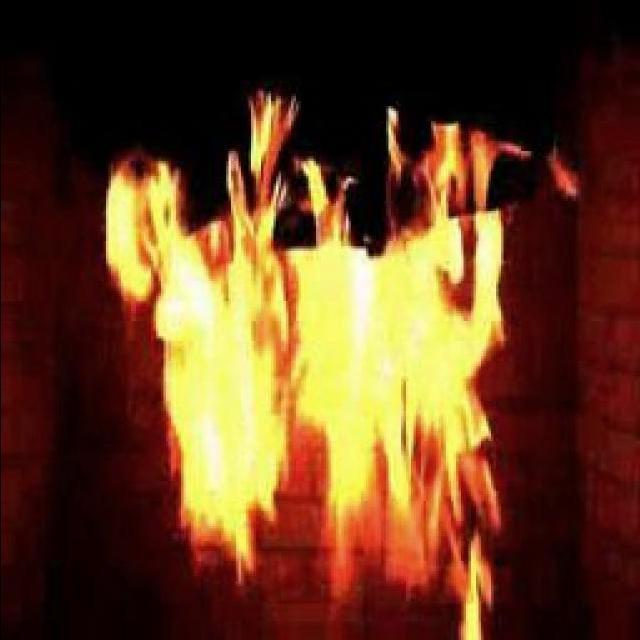Fire: (118, 168, 500, 578)
